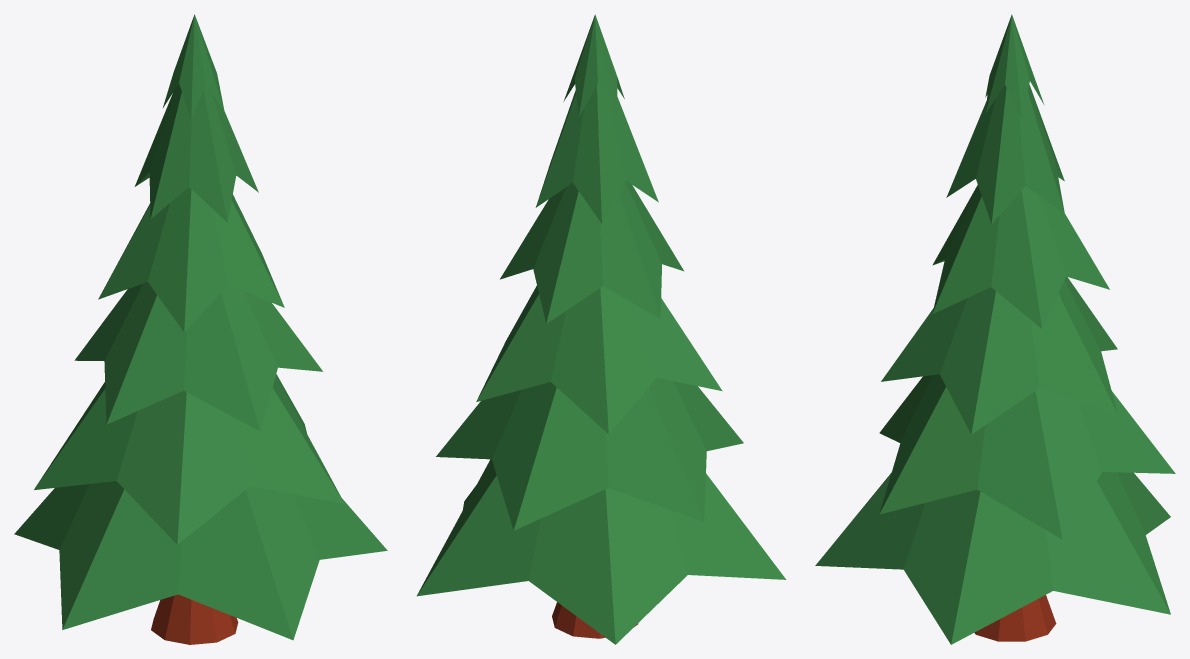
Rendered from Baum03.fbx.
3 views of the same model, side by side, from view 1: azimuth 30°, elevation 25°; view 2: azimuth 150°, elevation 25°; view 3: azimuth 270°, elevation 25° (orthographic).
Parts seen in each view (by area): view 1: Cylinder.001; view 2: Cylinder.001; view 3: Cylinder.001.
Part boxes in pixels (left/top/right/bottom): Cylinder.001: left=14, top=14, right=387, bottom=644; Cylinder.001: left=417, top=14, right=786, bottom=644; Cylinder.001: left=815, top=14, right=1175, bottom=644.
Bounding box in the file's own units: 574 × 595 × 1070.
